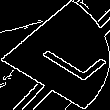L_NW: (14, 26, 96, 84)
